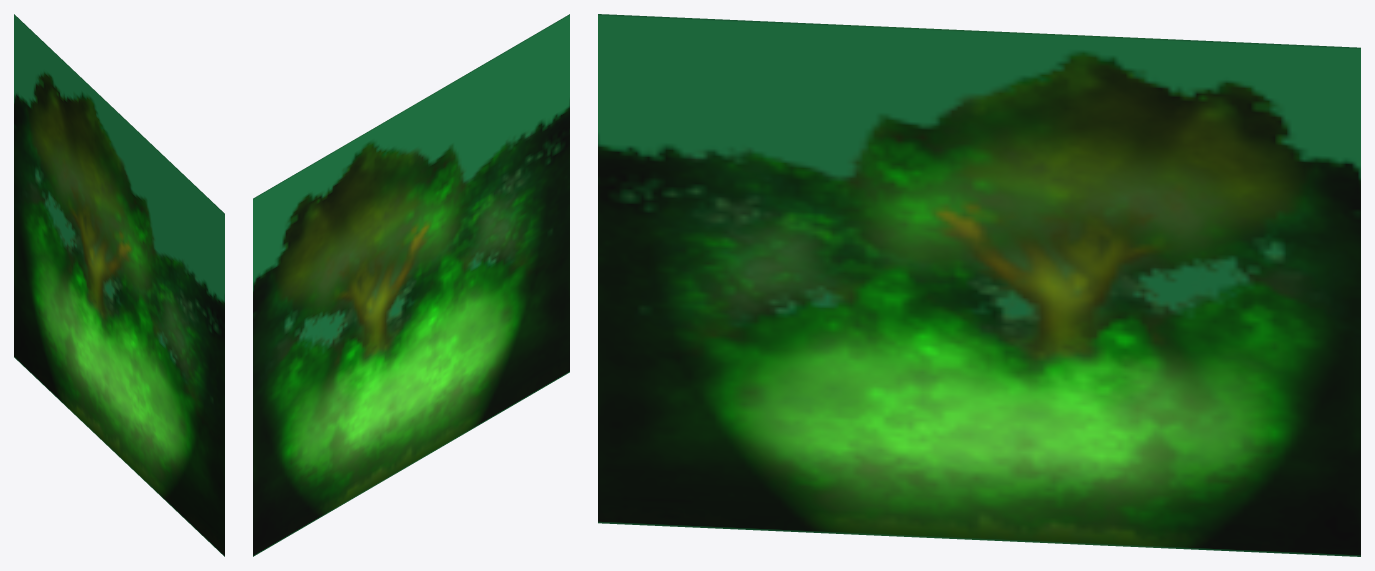
3 renders of one model, left to right at view 1: azimuth 30°, elevation 25°; view 2: azimuth 150°, elevation 25°; view 3: azimuth 270°, elevation 25°, orthographic. The views are drawn at different scales.
Visible parts, largest first — view 1: Object01; view 2: Object01; view 3: Object01.
Part boxes in pixels (box(x1,y1,x2,y2)): Object01: box(14, 14, 224, 556); Object01: box(253, 14, 569, 556); Object01: box(598, 14, 1360, 556).
Bounding box in the file's own units: 185 × 1307 × 1775.
Materials: 1 (1 with a texture image).
